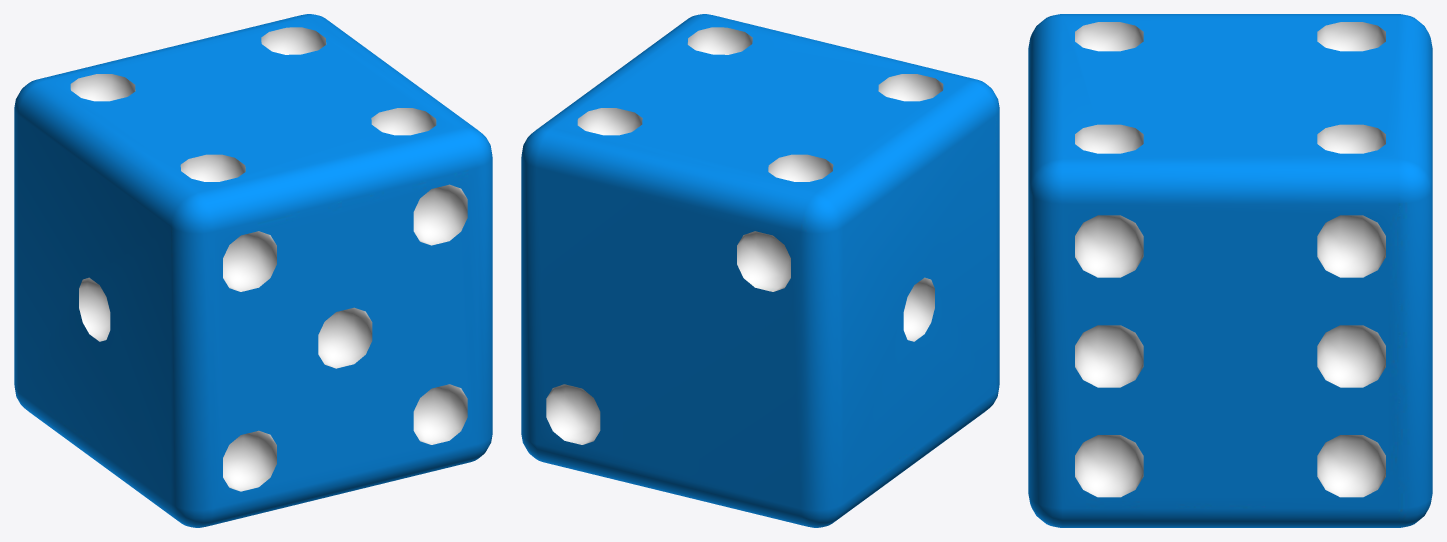
File: dice_blue.fbx
3 views of the same model, side by side, from view 1: azimuth 30°, elevation 25°; view 2: azimuth 150°, elevation 25°; view 3: azimuth 270°, elevation 25° (orthographic). The views are drawn at different scales.
Parts seen in each view (by area): view 1: dice_blue; view 2: dice_blue; view 3: dice_blue.
Boxes of the visible parts, left/top/right/bottom form: dice_blue: left=14, top=14, right=492, bottom=527; dice_blue: left=521, top=14, right=999, bottom=527; dice_blue: left=1028, top=14, right=1432, bottom=527.
Bounding box in the file's own units: 5 × 5 × 5.
Materials: 1 (1 with a texture image).
